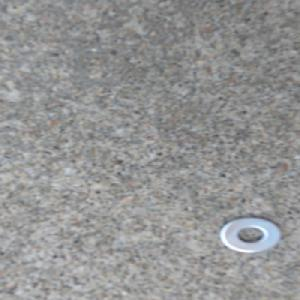Washer: (217, 215, 284, 254)
